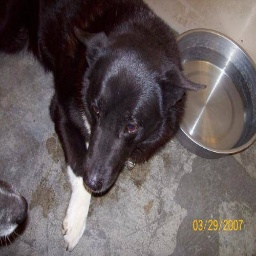dog: (8, 1, 188, 248)
